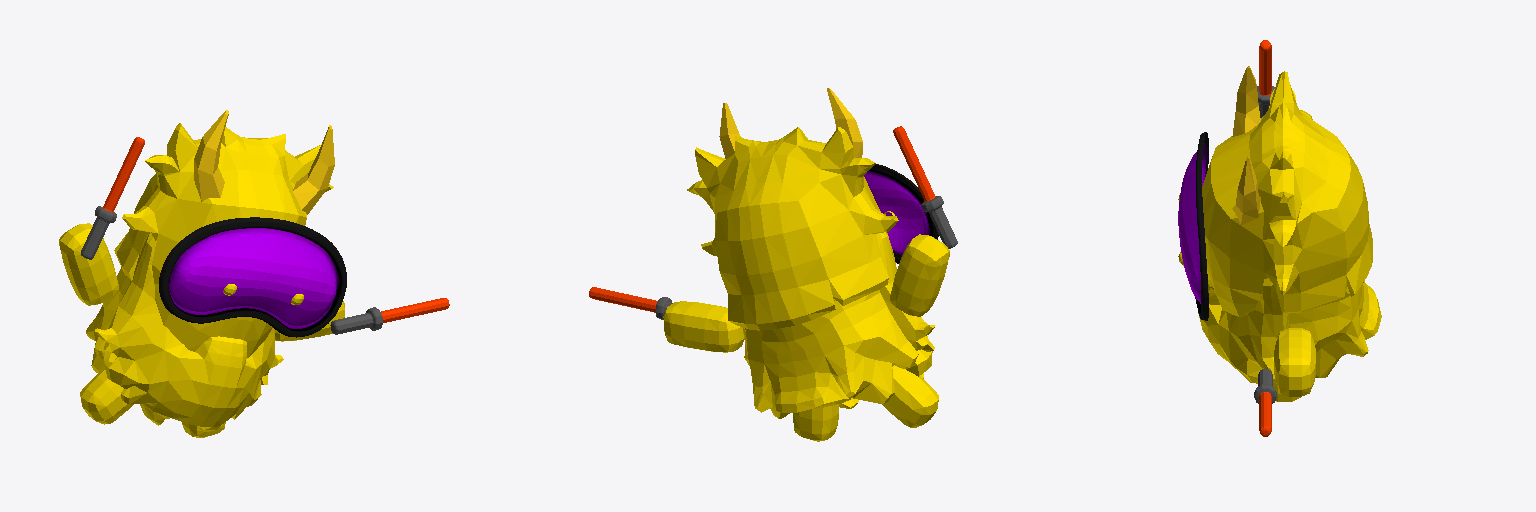
The picture shows the model from 3 angles: view 1: azimuth 30°, elevation 25°; view 2: azimuth 150°, elevation 25°; view 3: azimuth 270°, elevation 25°; orthographic projection.
Visible parts, largest first — view 1: rm.005; view 2: rm.005; view 3: rm.005.
Boxes of the visible parts, x1,y1,x2,y2 form: rm.005: [59, 110, 449, 437]; rm.005: [589, 88, 957, 441]; rm.005: [1178, 40, 1381, 436].
Bounding box in the file's own units: 7.71 × 6.7 × 3.68.
Materials: 2 (1 with a texture image).